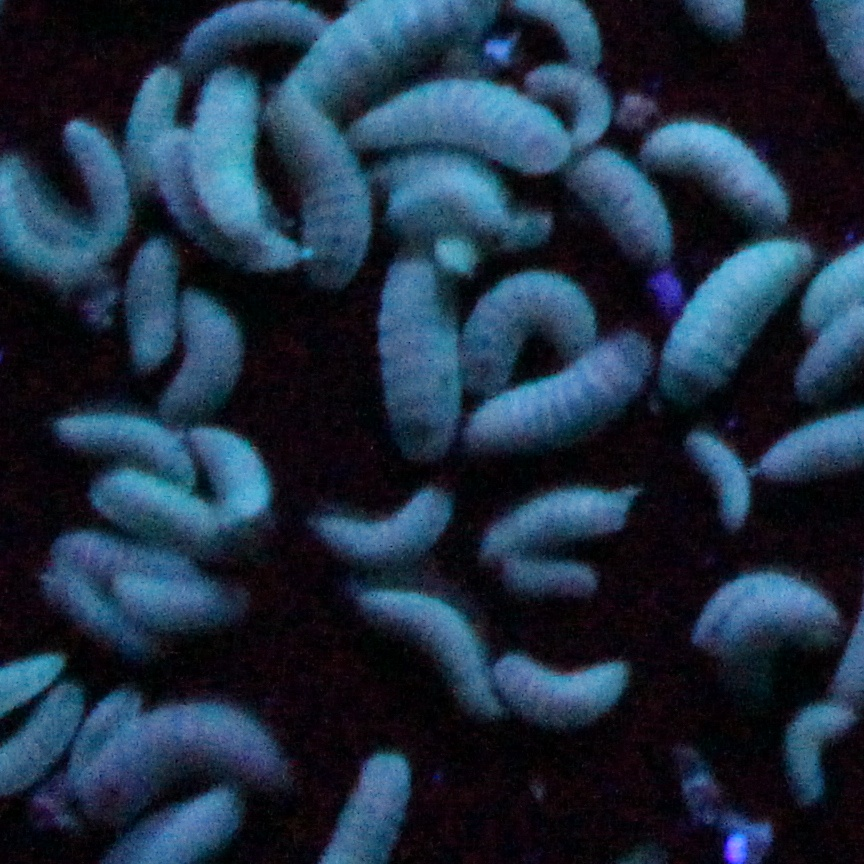larve: (661, 244, 800, 415), (465, 340, 647, 445), (268, 92, 362, 285), (153, 140, 296, 265), (86, 704, 289, 792), (461, 272, 604, 390), (359, 595, 491, 718), (346, 84, 568, 157), (385, 261, 456, 460), (648, 127, 784, 222), (194, 67, 268, 234), (311, 492, 468, 568), (693, 573, 851, 644), (90, 469, 227, 545), (482, 483, 634, 551), (53, 408, 194, 481), (563, 159, 666, 257), (158, 290, 240, 413), (104, 794, 249, 860), (499, 652, 622, 727), (380, 173, 523, 235), (69, 114, 127, 266), (188, 423, 271, 522), (50, 569, 145, 648), (346, 748, 412, 856), (785, 702, 853, 806), (527, 61, 608, 148), (59, 536, 202, 580), (125, 68, 177, 189), (131, 236, 173, 368), (120, 581, 248, 623), (689, 430, 743, 523), (68, 696, 135, 767), (502, 554, 597, 598)
